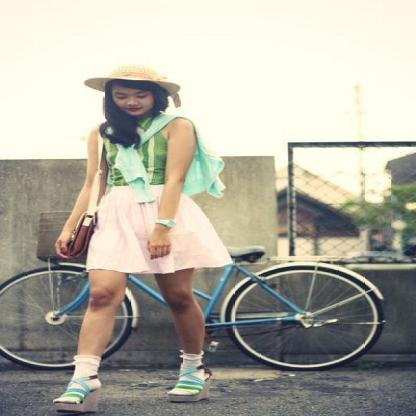bag: (59, 212, 99, 264)
hat: (87, 65, 180, 107)
jacket: (112, 113, 225, 204)
shirt: (100, 129, 168, 191)
shoe: (53, 368, 207, 402)
skirt: (87, 185, 232, 273)
